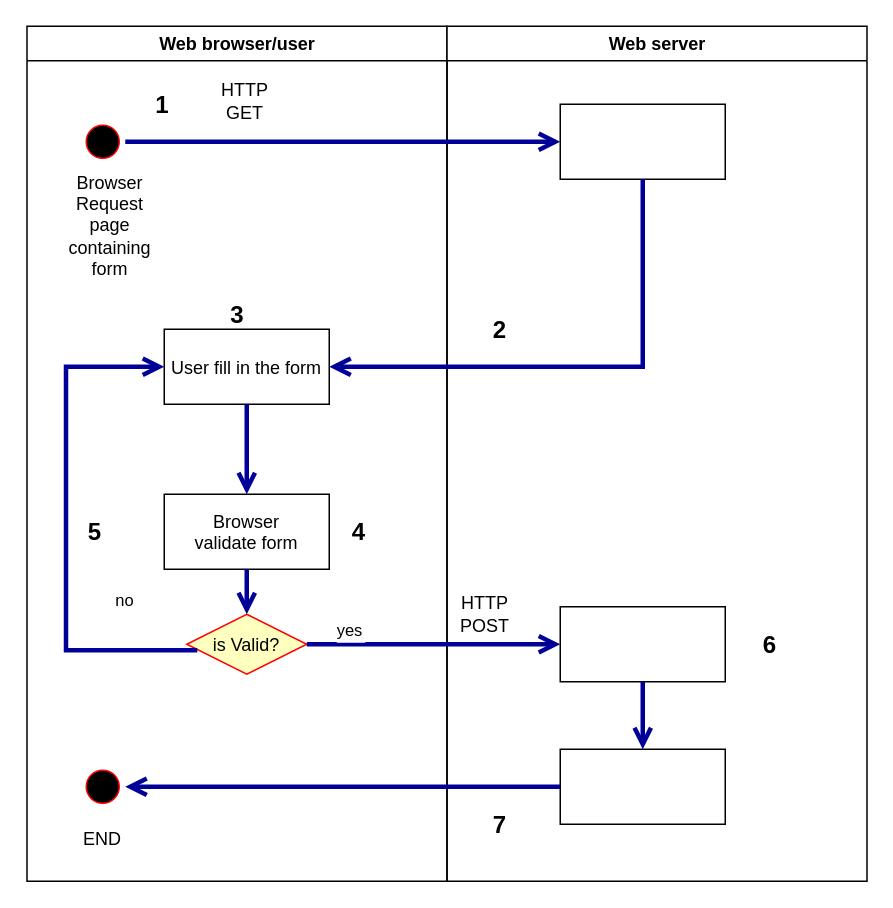
The diagram is 893 pixels wide and 908 high, and some of its shapes have lost their labels. Here are the shapes that lost their labels. From the top down, the centre of each, then its label:
At (642,141): "Create empty form".
At (642,643): "Perform action on form data".
At (642,786): "Redirect browser to success page".
